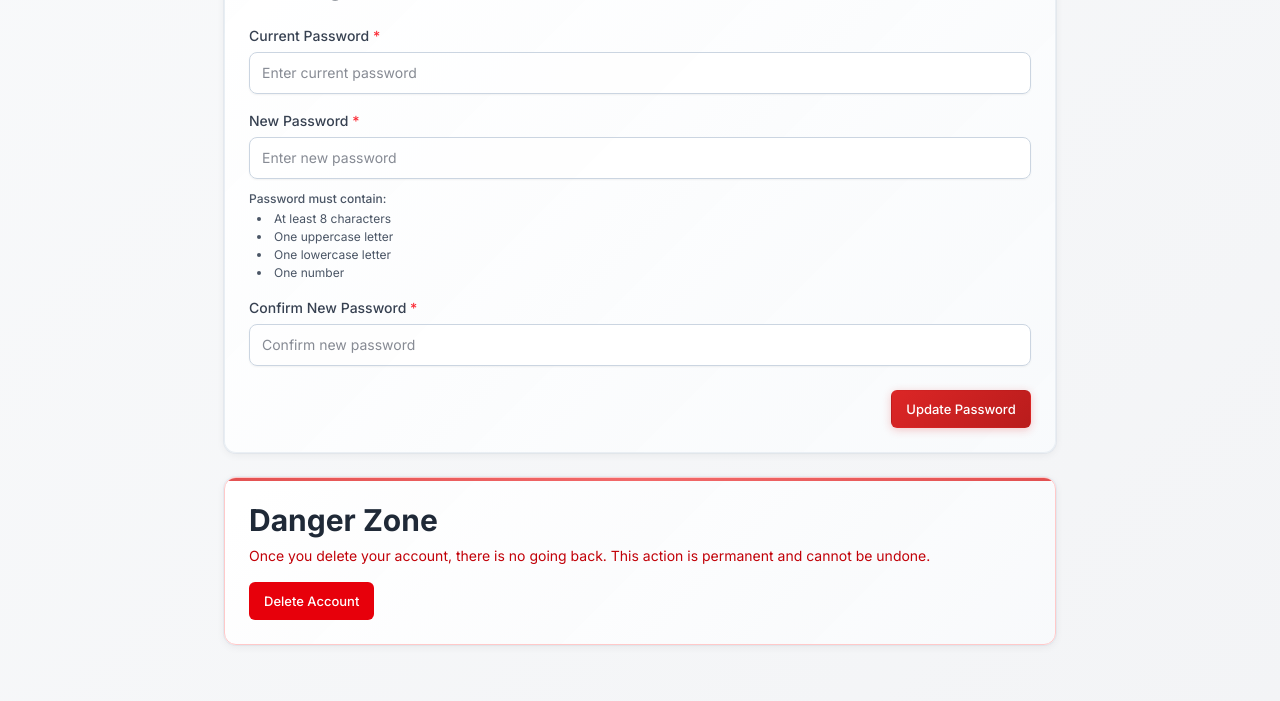
Test: ProfilePage › delete account flow › should open first confirmation modal on delete button click
(page scrolled)
Step 1. Click the button "Delete Account" → (312, 601), box [249,582,374,620]
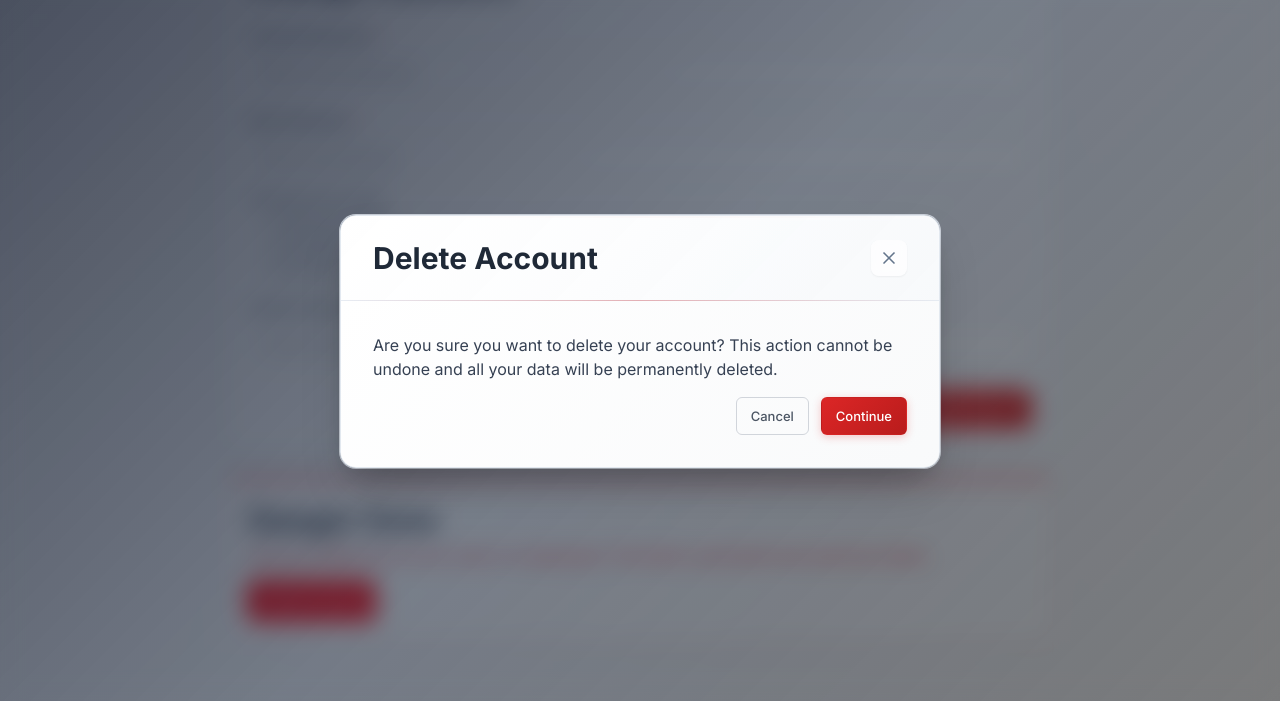
Check: the text "Are you sure you want to delete your account" is shown, box [373,334,892,378]
